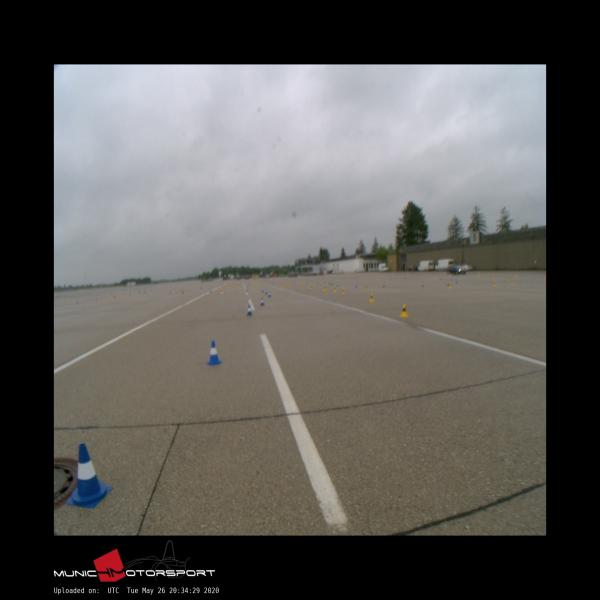blue_cone: (66, 444, 112, 508), (206, 341, 222, 366), (247, 305, 253, 315), (260, 297, 264, 306)
yellow_cone: (400, 304, 409, 317), (370, 292, 373, 301)
